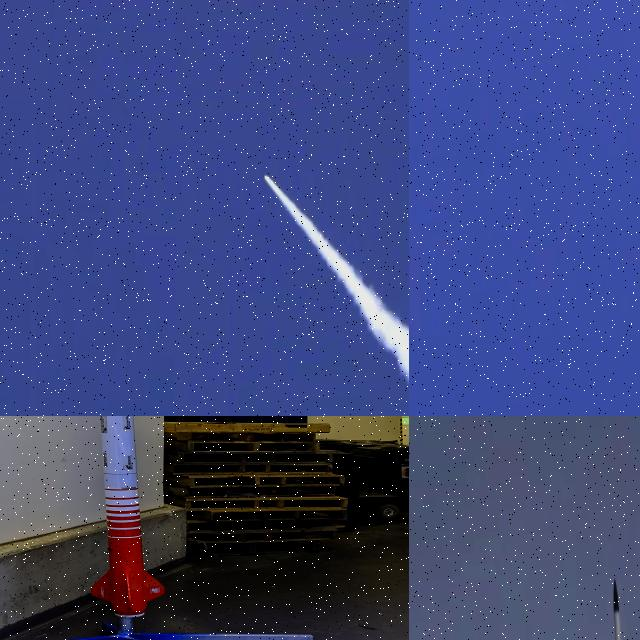Rocket: (91, 416, 165, 618), (612, 579, 634, 640), (262, 173, 266, 178)
